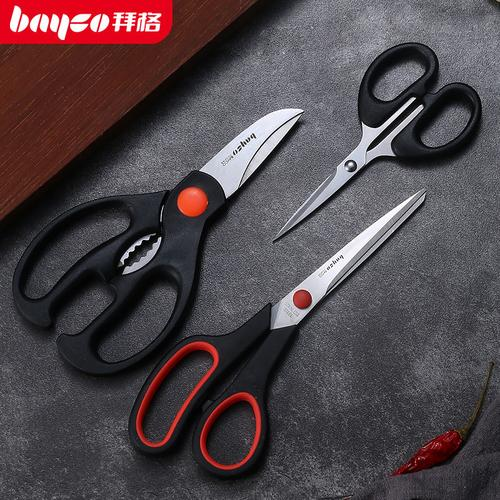scissor: (127, 185, 427, 474), (12, 108, 307, 378), (272, 43, 481, 240)
